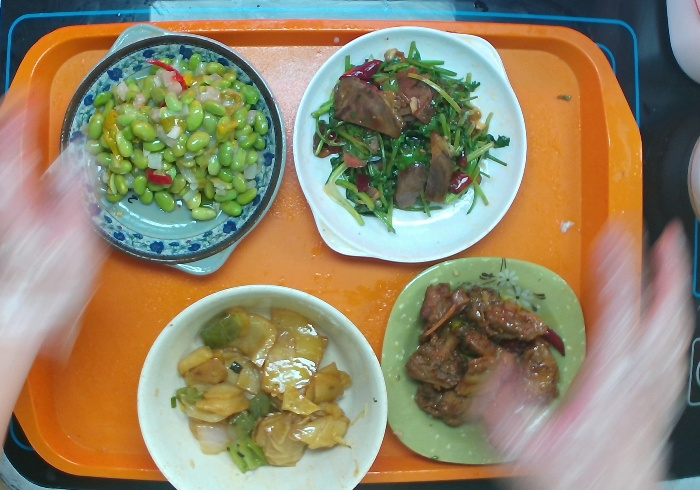NLDX-Bai_Se_Shuang_Er_Die: (291, 22, 528, 267)
NLDX-Bai_Se_Yuan_Wan: (135, 282, 388, 490)
NLDX-Lv_Hua_Fang_Die: (378, 257, 588, 464)
NLDX-Qing_Hua_Shuang_Er_Die: (55, 19, 287, 279)
